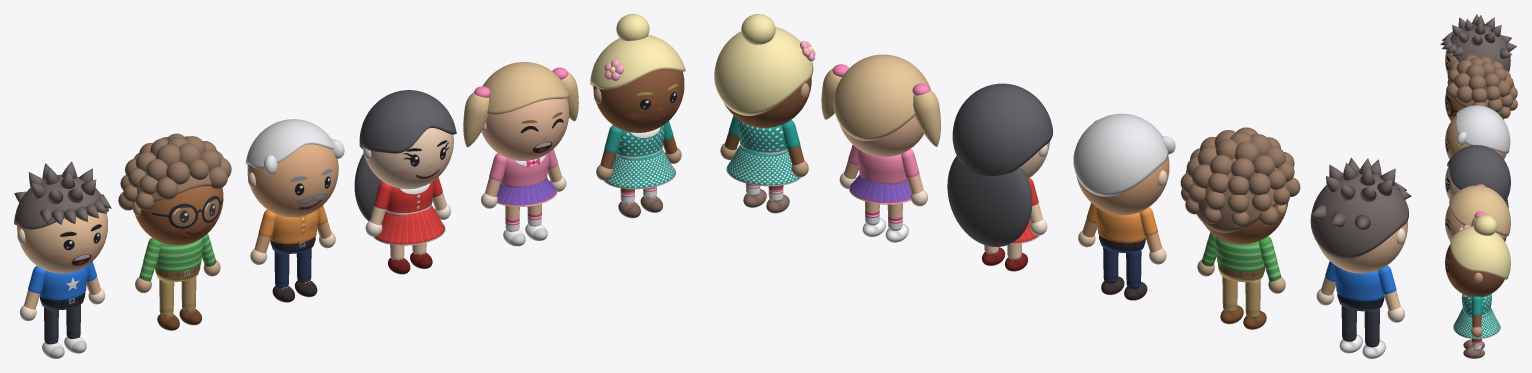
The model's file is lineup_casual.glb.
The picture shows the model from 3 angles, left to right: view 1: azimuth 30°, elevation 25°; view 2: azimuth 150°, elevation 25°; view 3: azimuth 270°, elevation 25°; orthographic projection. The views are drawn at different scales.
Parts seen in each view (by area): view 1: male_02_curly_Head_Base_hair, female_01_longhair_Head_Base_hair, male_03_moustache_Head_Base_face, female_02_twintails_Head_Base_hair, male_01_spiky_Head_Base_hair, female_03_bun_Head_Base_face, female_02_twintails_Head_Base_face, female_03_bun_Head_Base_hair, male_01_spiky_Head_Base_face, male_02_curly_Head_Base_face, female_01_longhair_Head_Base_face, male_03_moustache_Head_Base_hair (+17 smaller); view 2: female_01_longhair_Head_Base_hair, male_02_curly_Head_Base_hair, female_02_twintails_Head_Base_hair, male_01_spiky_Head_Base_hair, female_03_bun_Head_Base_hair, male_03_moustache_Head_Base_hair, female_03_bun_Body_Base_skirt, male_03_moustache_Head_Base_face, female_02_twintails_Head_Base_face, male_01_spiky_Head_Base_face, male_03_moustache_Body_Casual_shirt, male_01_spiky_Body_Casual_shirt (+14 smaller); view 3: male_02_curly_Head_Base_hair, female_03_bun_Head_Base_hair, female_01_longhair_Head_Base_hair, male_01_spiky_Head_Base_hair, male_03_moustache_Head_Base_hair, female_02_twintails_Head_Base_hair, female_03_bun_Head_Base_face, female_03_bun_Body_Base_skirt, male_03_moustache_Head_Base_face, female_03_bun_Body_Casual_shirt, female_02_twintails_Head_Base_face, female_03_bun_ArmL_Casual_sleeve (+8 smaller).
Part boxes in pixels (x1=…): male_02_curly_Head_Base_hair: x1=118, y1=133, x2=231, y2=210; female_01_longhair_Head_Base_hair: x1=354, y1=90, x2=456, y2=221; male_03_moustache_Head_Base_face: x1=247, y1=144, x2=338, y2=217; female_02_twintails_Head_Base_hair: x1=463, y1=62, x2=578, y2=147; male_01_spiky_Head_Base_hair: x1=14, y1=161, x2=111, y2=229; female_03_bun_Head_Base_face: x1=593, y1=69, x2=684, y2=132; female_02_twintails_Head_Base_face: x1=481, y1=98, x2=569, y2=160; female_03_bun_Head_Base_hair: x1=590, y1=14, x2=685, y2=89; male_01_spiky_Head_Base_face: x1=17, y1=212, x2=107, y2=273; male_02_curly_Head_Base_face: x1=133, y1=186, x2=223, y2=245; female_01_longhair_Head_Base_face: x1=363, y1=128, x2=453, y2=189; male_03_moustache_Head_Base_hair: x1=245, y1=119, x2=344, y2=174; female_01_longhair_Head_Base_hair: x1=947, y1=83, x2=1052, y2=246; male_02_curly_Head_Base_hair: x1=1180, y1=127, x2=1300, y2=232; female_02_twintails_Head_Base_hair: x1=821, y1=54, x2=940, y2=146; male_01_spiky_Head_Base_hair: x1=1310, y1=157, x2=1411, y2=259; female_03_bun_Head_Base_hair: x1=714, y1=14, x2=813, y2=115; male_03_moustache_Head_Base_hair: x1=1073, y1=113, x2=1175, y2=196; female_03_bun_Body_Base_skirt: x1=726, y1=145, x2=800, y2=186; male_03_moustache_Head_Base_face: x1=1076, y1=155, x2=1169, y2=215; female_02_twintails_Head_Base_face: x1=839, y1=116, x2=923, y2=156; male_01_spiky_Head_Base_face: x1=1318, y1=221, x2=1407, y2=273; male_03_moustache_Body_Casual_shirt: x1=1096, y1=207, x2=1145, y2=242; male_01_spiky_Body_Casual_shirt: x1=1334, y1=265, x2=1384, y2=300; male_02_curly_Head_Base_hair: x1=1446, y1=54, x2=1517, y2=118; female_03_bun_Head_Base_hair: x1=1450, y1=215, x2=1510, y2=279; female_01_longhair_Head_Base_hair: x1=1447, y1=145, x2=1510, y2=241; male_01_spiky_Head_Base_hair: x1=1440, y1=14, x2=1516, y2=71; male_03_moustache_Head_Base_hair: x1=1455, y1=105, x2=1510, y2=153; female_02_twintails_Head_Base_hair: x1=1449, y1=185, x2=1510, y2=236; female_03_bun_Head_Base_face: x1=1445, y1=244, x2=1504, y2=296; female_03_bun_Body_Base_skirt: x1=1453, y1=308, x2=1500, y2=338; male_03_moustache_Head_Base_face: x1=1445, y1=115, x2=1506, y2=159; female_03_bun_Body_Casual_shirt: x1=1461, y1=294, x2=1491, y2=317; female_02_twintails_Head_Base_face: x1=1445, y1=206, x2=1505, y2=240; female_03_bun_ArmL_Casual_sleeve: x1=1471, y1=296, x2=1481, y2=327.
Bounding box in the file's own units: 4.48 × 1.24 × 0.6357.
Materials: 51 (36 with a texture image).
